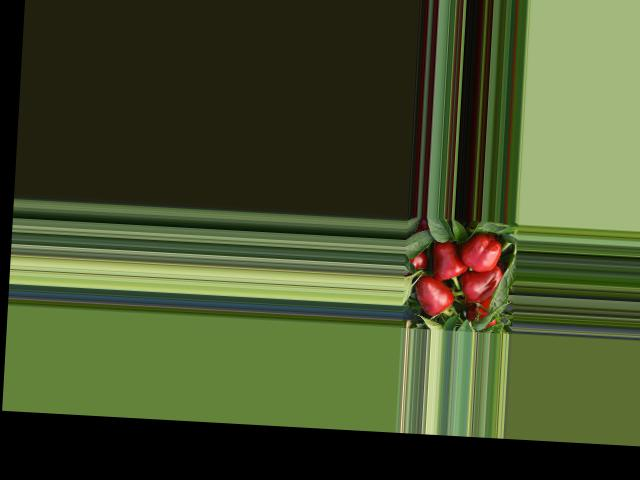bell_pepper: (450, 232, 505, 273)
